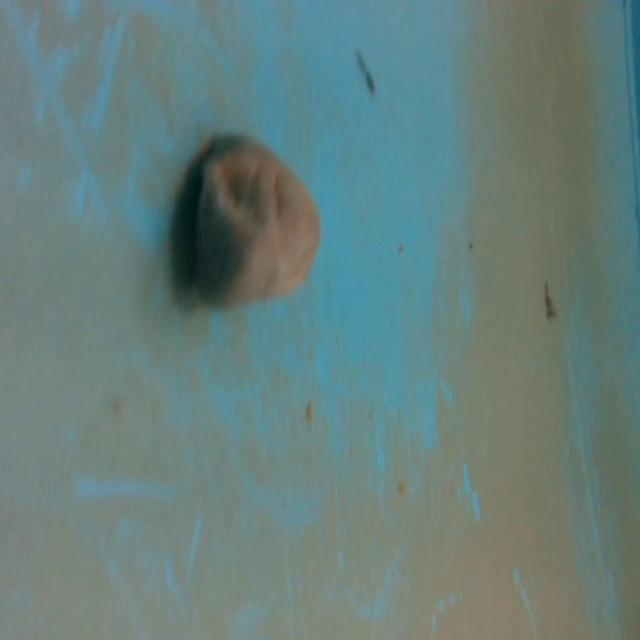rock: (178, 127, 328, 318)
